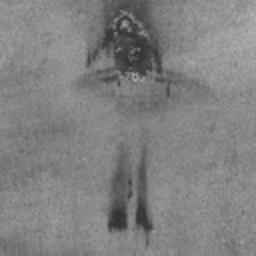Iron sheet ash: (84, 0, 173, 97), (105, 142, 156, 248)
